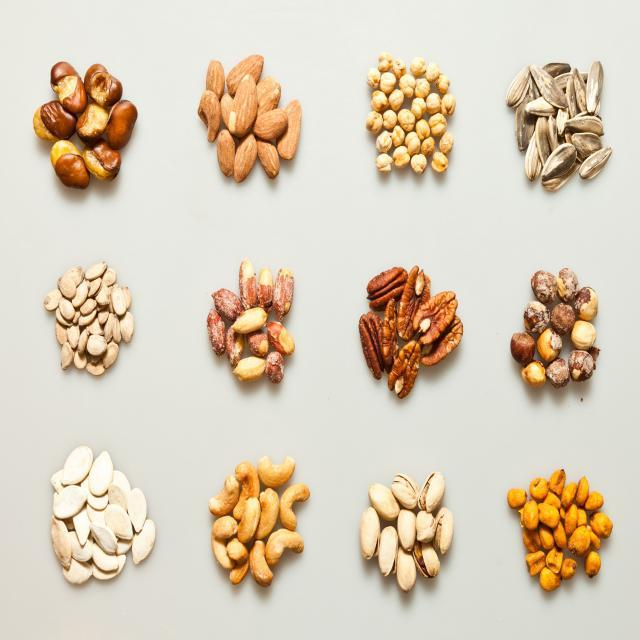Frutta secca: (47, 446, 157, 584), (208, 456, 310, 592), (506, 61, 611, 193), (505, 466, 614, 592), (31, 59, 135, 189), (195, 55, 301, 182), (206, 254, 298, 387), (509, 266, 602, 394), (359, 471, 455, 595), (364, 53, 456, 179), (43, 260, 135, 382)
